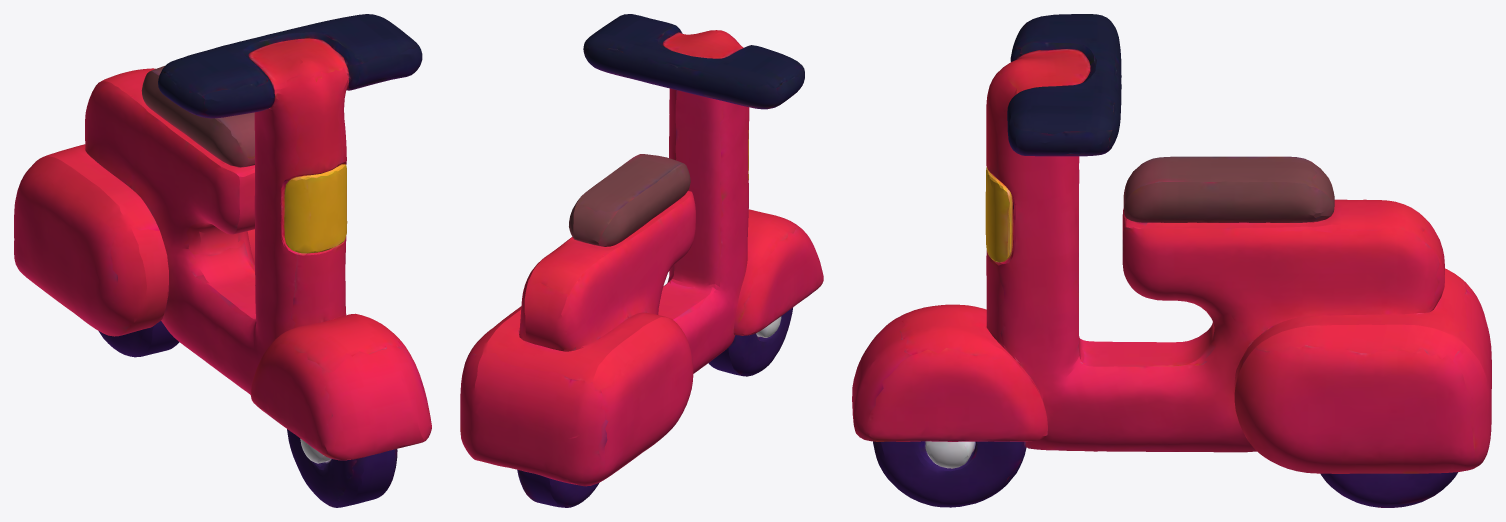
The model's file is motor-scooter.glb.
3 renders of one model, left to right at view 1: azimuth 30°, elevation 25°; view 2: azimuth 150°, elevation 25°; view 3: azimuth 270°, elevation 25°, orthographic. The views are drawn at different scales.
Visible parts, largest first — view 1: Mesh; view 2: Mesh; view 3: Mesh.
Boxes of the visible parts, box(x1,y1,x2,y2) form: Mesh: box(14, 14, 431, 507); Mesh: box(460, 14, 823, 507); Mesh: box(852, 14, 1491, 507).
Size of the model in its own units: 0.445 by 0.7568 by 1.
Materials: 1 (1 with a texture image).
